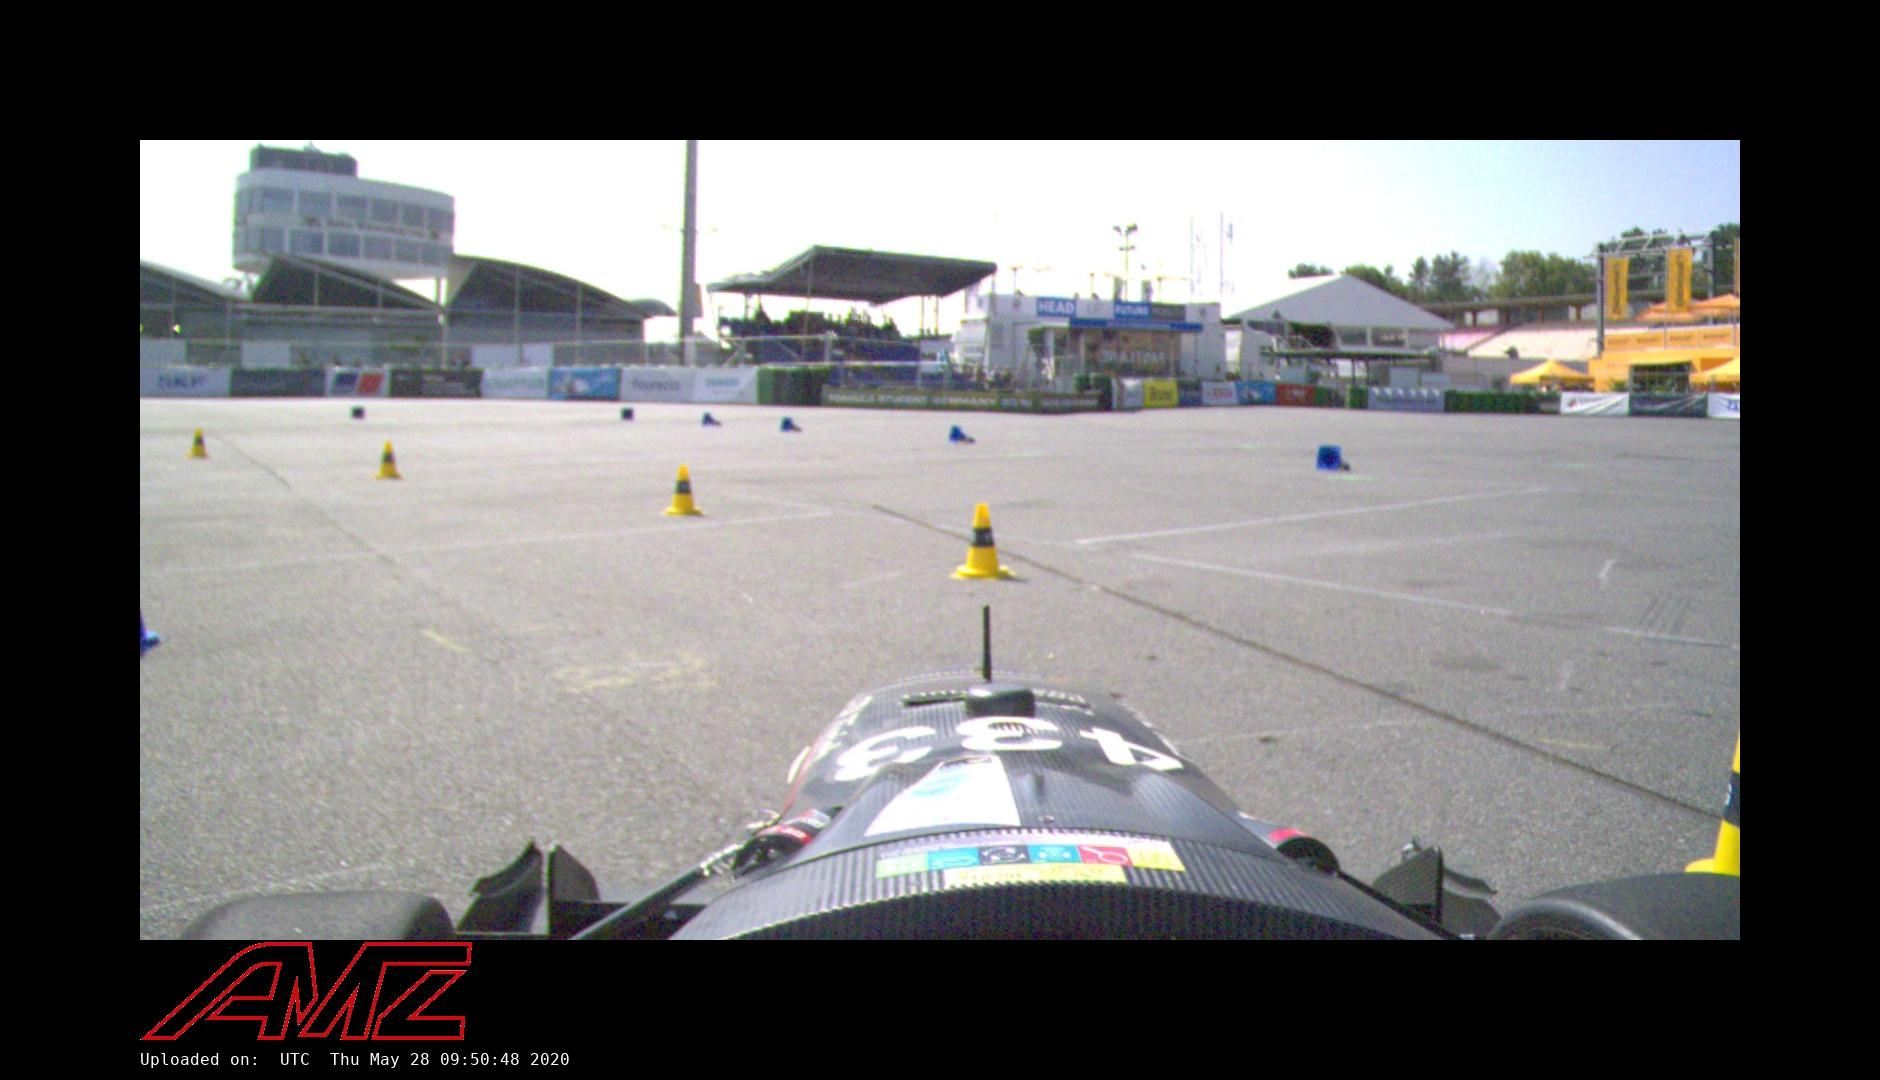blue_cone: (1312, 444, 1352, 473), (946, 424, 977, 446), (777, 416, 803, 434), (699, 412, 722, 428)
yellow_cone: (948, 503, 1019, 583), (661, 465, 706, 519), (372, 441, 404, 481), (183, 428, 210, 460)
